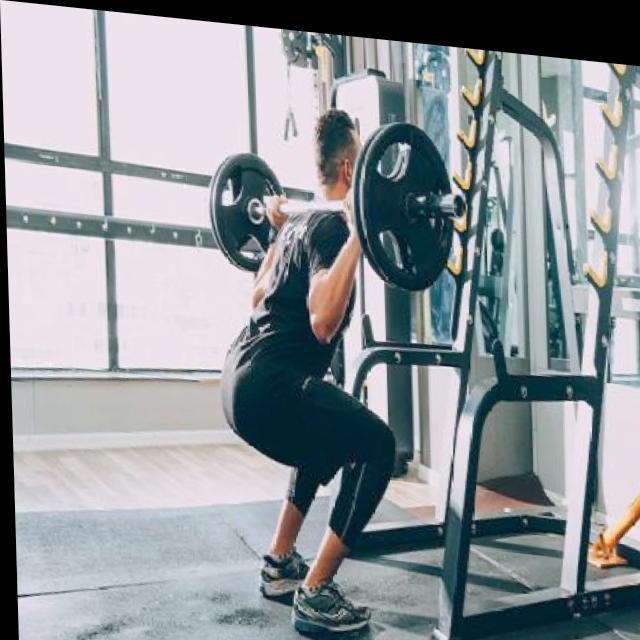barbell: (357, 108, 468, 293)
